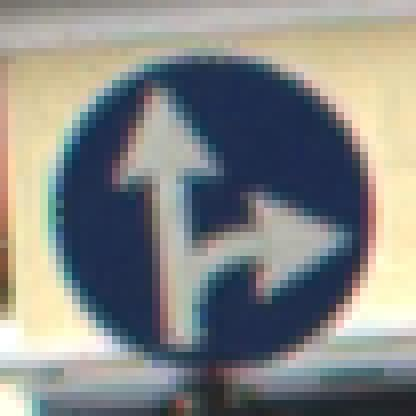Straight or Right: (41, 41, 377, 377)
